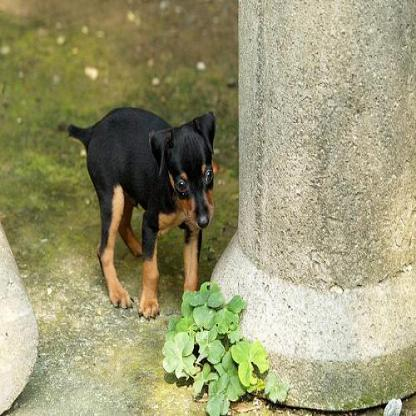miniature_pinscher: (65, 102, 217, 321)
